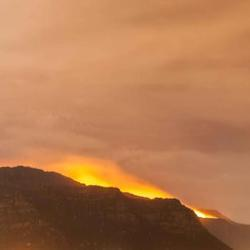fire: (77, 174, 113, 188), (134, 189, 169, 199), (196, 208, 216, 219)
